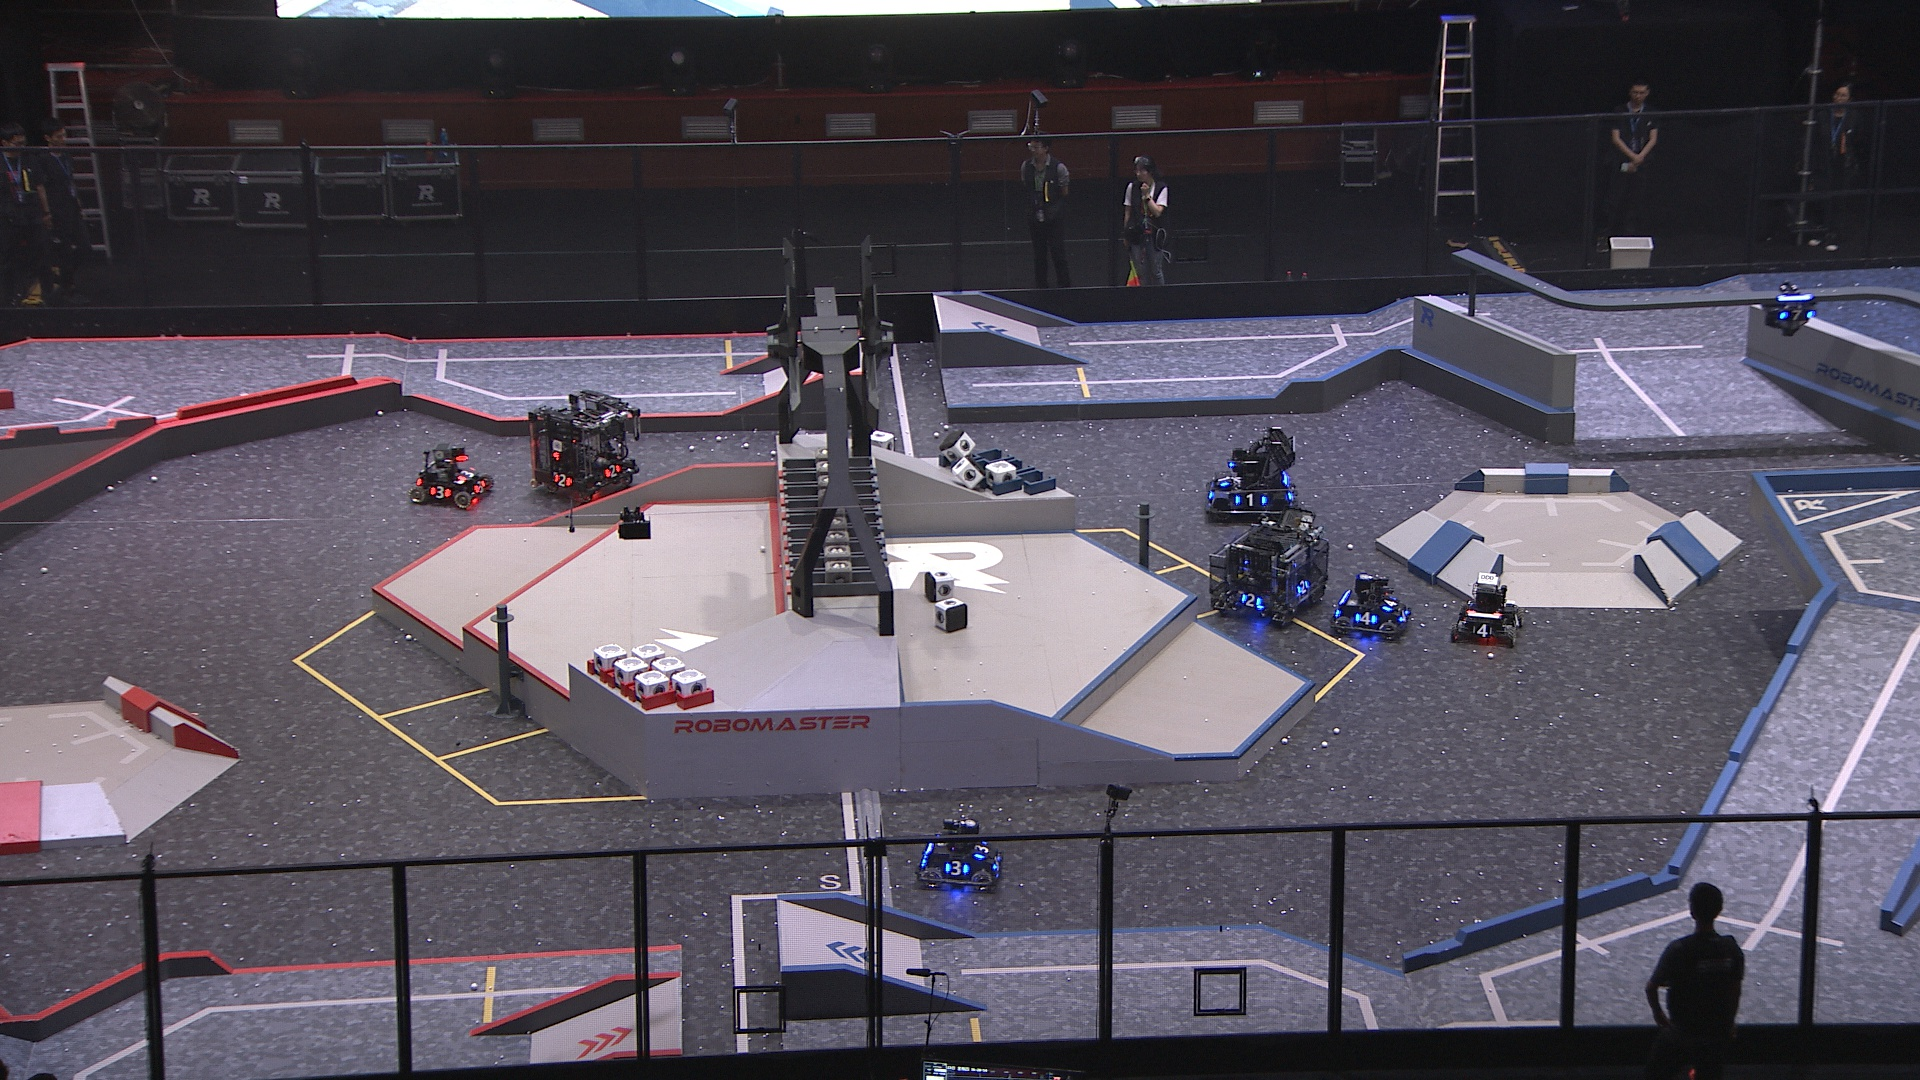armor: (1778, 306, 1813, 323), (944, 858, 972, 878), (1234, 491, 1269, 506), (1353, 611, 1379, 626), (1240, 591, 1262, 609), (1215, 472, 1236, 491), (551, 473, 574, 491), (429, 485, 452, 500), (1472, 624, 1495, 638), (1296, 579, 1313, 599), (604, 462, 621, 477), (992, 851, 1004, 872), (1396, 607, 1411, 622), (473, 480, 489, 495), (973, 840, 988, 856), (458, 467, 475, 480), (1513, 611, 1523, 629), (1385, 595, 1396, 609)
car: (1207, 508, 1338, 629), (524, 385, 646, 504), (1201, 422, 1305, 526), (913, 815, 1006, 897), (407, 442, 495, 512), (1448, 574, 1527, 647), (1328, 571, 1414, 638)
watcher: (1764, 282, 1815, 338)
